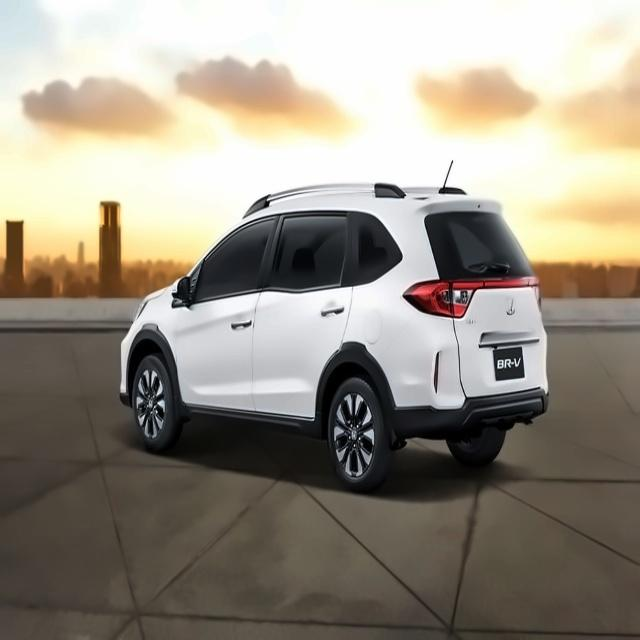Car boot: (423, 203, 549, 403)
Fender - -F-L-: (132, 291, 185, 407)
Fender - -R-L-: (346, 280, 432, 367)
Front bumper: (112, 333, 146, 415)
Headlight - -L-: (130, 282, 171, 324)
Passenger-s door - -F-L-: (253, 206, 358, 419)
Passenger-s door - -R-L-: (177, 206, 276, 416)
Rear bumper: (368, 336, 563, 442)
Rear light - -L-: (400, 274, 491, 323)
Rear light - -R-: (523, 273, 550, 325)
Side bumper - -L-: (168, 397, 329, 443)
Side mirror - -L-: (165, 268, 198, 310)
